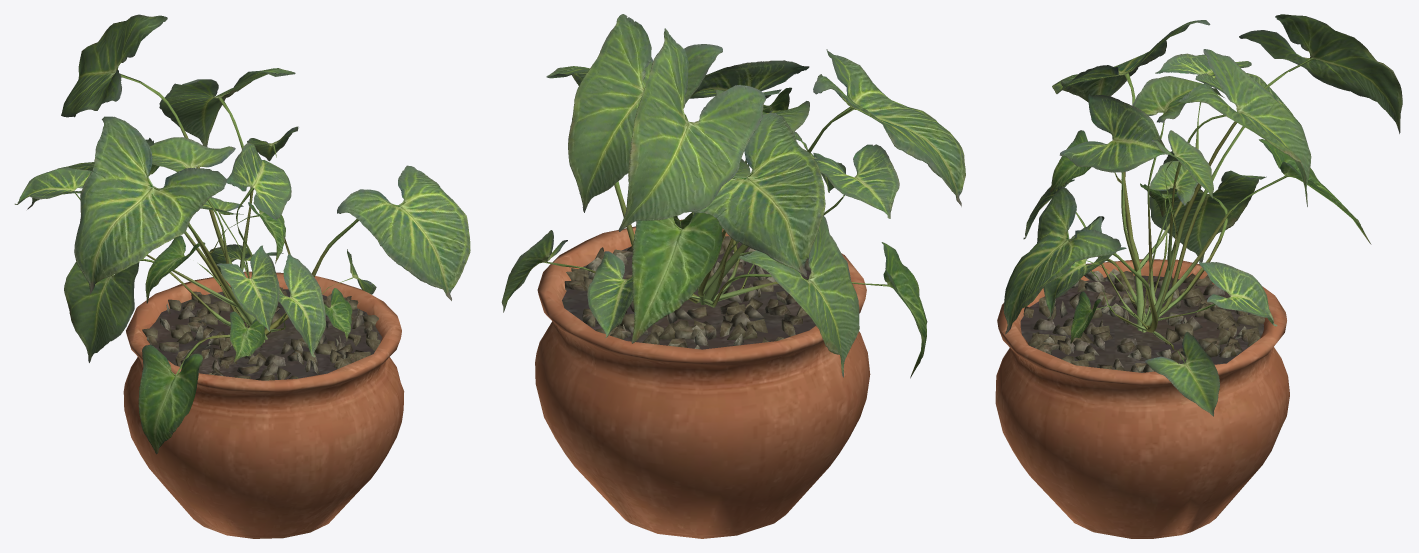
Rendered from potted_plant_02.glb.
The picture shows the model from 3 angles, left to right: view 1: azimuth 30°, elevation 25°; view 2: azimuth 150°, elevation 25°; view 3: azimuth 270°, elevation 25°; orthographic projection. The views are drawn at different scales.
Visible parts, largest first — view 1: potted_plant_02_leaves, potted_plant_02_pot; view 2: potted_plant_02_leaves, potted_plant_02_pot; view 3: potted_plant_02_pot, potted_plant_02_leaves.
Part boxes in pixels (x1=…): potted_plant_02_leaves: x1=14, y1=14, x2=470, y2=454; potted_plant_02_pot: x1=123, y1=271, x2=404, y2=538; potted_plant_02_leaves: x1=501, y1=14, x2=965, y2=378; potted_plant_02_pot: x1=535, y1=219, x2=870, y2=538; potted_plant_02_pot: x1=995, y1=259, x2=1289, y2=538; potted_plant_02_leaves: x1=1003, y1=14, x2=1402, y2=416.
Bounding box in the file's own units: 0.7012 × 0.8412 × 0.6553.
Materials: 2 (2 with a texture image).
